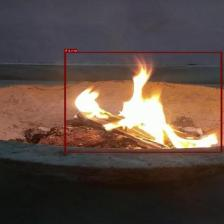fire: (64, 52, 222, 152)
